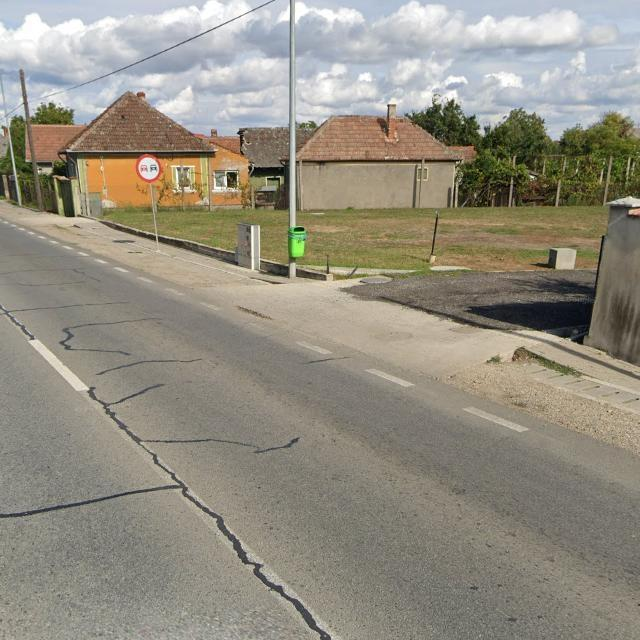forb_overtake: (137, 153, 162, 182)
